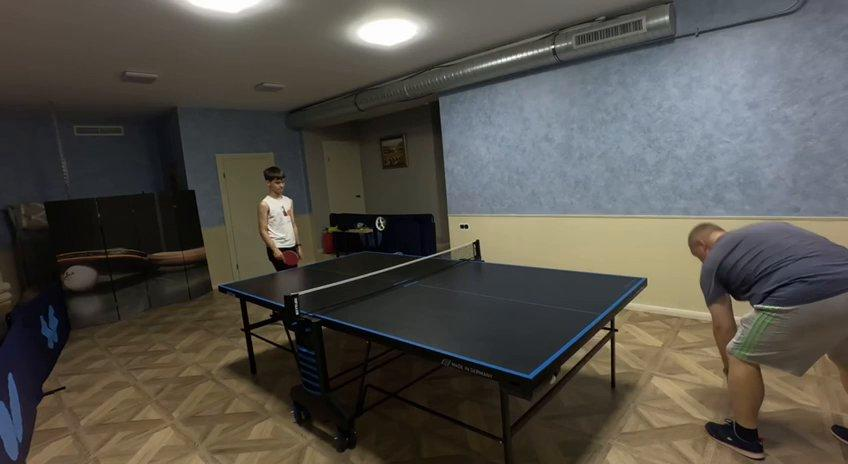Net: (283, 241, 481, 320)
Player1: (257, 166, 302, 269)
Player2: (688, 222, 847, 459)
Table: (222, 250, 645, 379)
